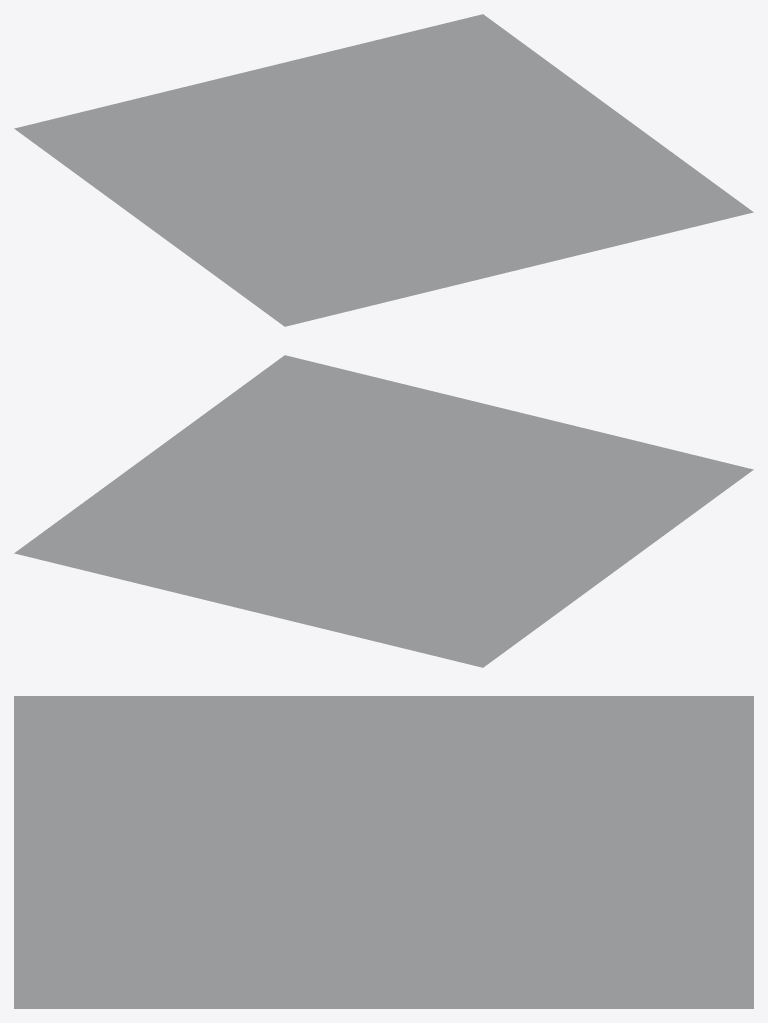
Rendered from Ceiling_type_A_014.glb.
The picture shows the model from 3 angles, top to bottom: view 1: azimuth 30°, elevation 25°; view 2: azimuth 150°, elevation 25°; view 3: azimuth 270°, elevation 25°; orthographic projection. The views are drawn at different scales.
Parts seen in each view (by area): view 1: Ceiling_type_A_014; view 2: Ceiling_type_A_014; view 3: Ceiling_type_A_014.
Boxes of the visible parts, left/top/right/bottom form: Ceiling_type_A_014: left=14, top=14, right=753, bottom=326; Ceiling_type_A_014: left=14, top=355, right=753, bottom=667; Ceiling_type_A_014: left=14, top=696, right=753, bottom=1008.
Size of the model in its own units: 4 by 0.0571 by 4.
Materials: 2 (2 with a texture image).
